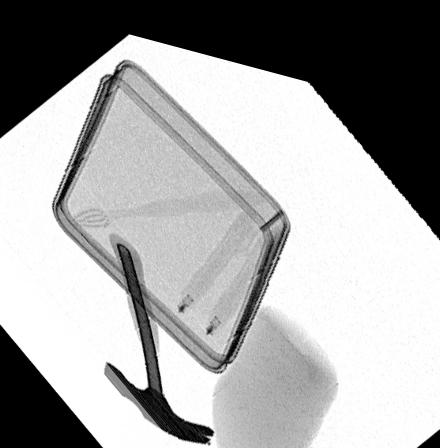Hammer: (101, 223, 215, 434)
